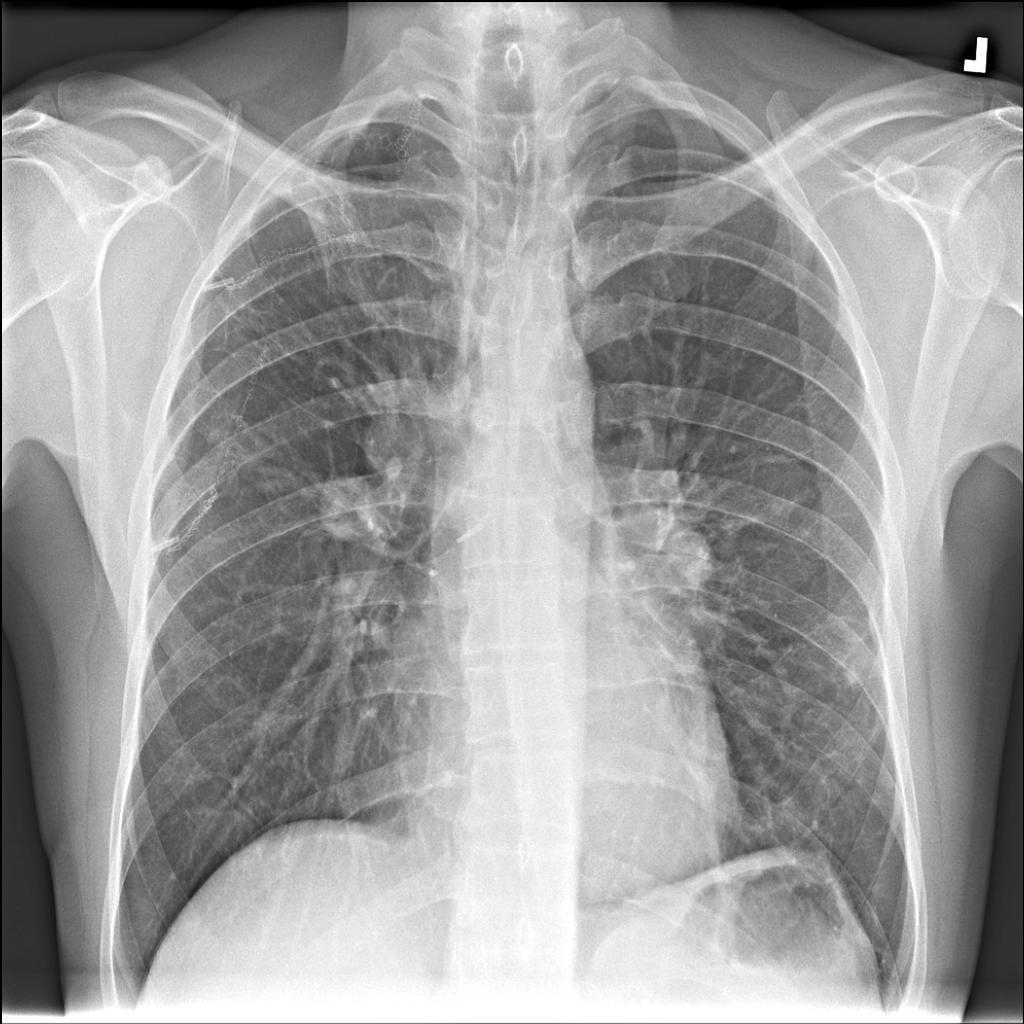Nodule: (309, 463, 379, 552), (363, 408, 421, 468)
